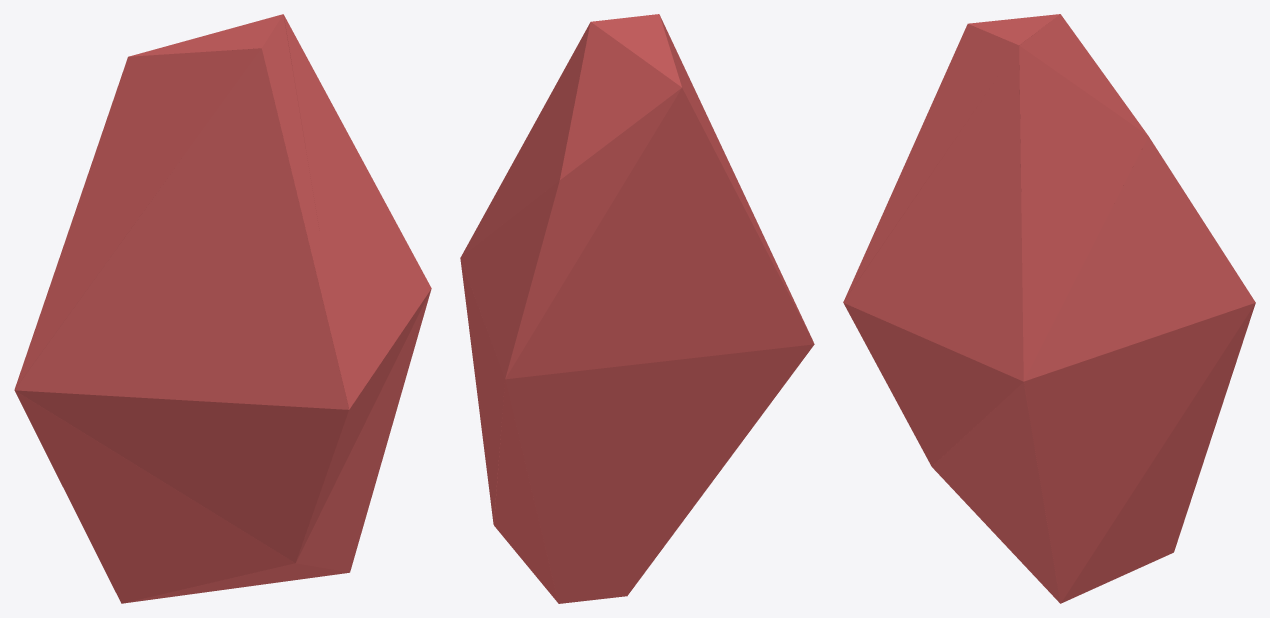
File: ki_iwa.glb
3 renders of one model, left to right at view 1: azimuth 30°, elevation 25°; view 2: azimuth 150°, elevation 25°; view 3: azimuth 270°, elevation 25°, orthographic. The views are drawn at different scales.
Visible parts, largest first — view 1: ki_iwa_col; view 2: ki_iwa_col; view 3: ki_iwa_col.
Boxes of the visible parts, <box> form: ki_iwa_col: <box>14,14,431,603</box>; ki_iwa_col: <box>460,14,814,603</box>; ki_iwa_col: <box>843,14,1255,603</box>.
Size of the model in its own units: 0.5978 by 0.8324 by 0.5885.
